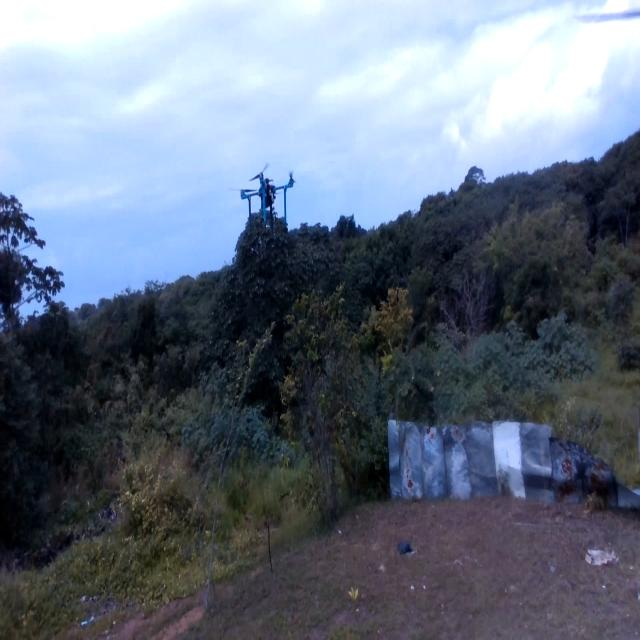-uav-: (226, 150, 304, 249)
